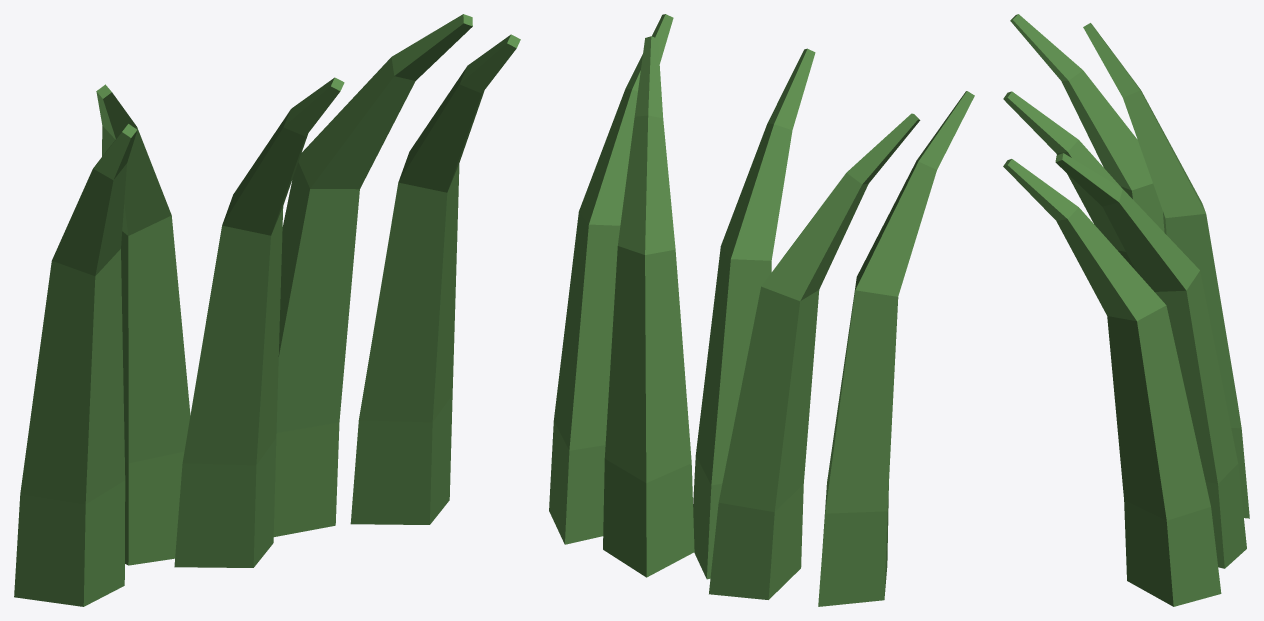
File: env_props_hierba_camino_01.fbx
3 renders of one model, left to right at view 1: azimuth 30°, elevation 25°; view 2: azimuth 150°, elevation 25°; view 3: azimuth 270°, elevation 25°, orthographic. The views are drawn at different scales.
Visible parts, largest first — view 1: env_props_hierba_camino; view 2: env_props_hierba_camino; view 3: env_props_hierba_camino.
Part boxes in pixels (left/top/right/bottom): env_props_hierba_camino: left=14, top=14, right=520, bottom=606; env_props_hierba_camino: left=549, top=14, right=974, bottom=606; env_props_hierba_camino: left=1003, top=14, right=1249, bottom=606.
Bounding box in the file's own units: 0.4487 × 0.5599 × 0.2857.
